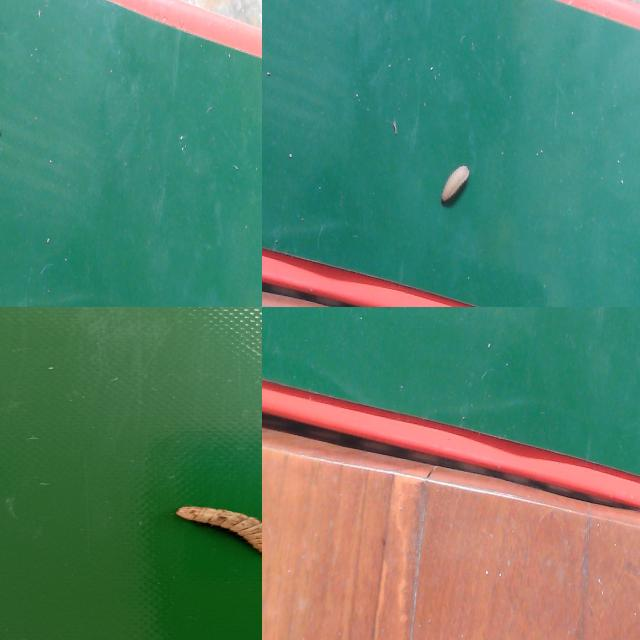Maggot: (176, 507, 262, 557), (439, 164, 472, 208)
